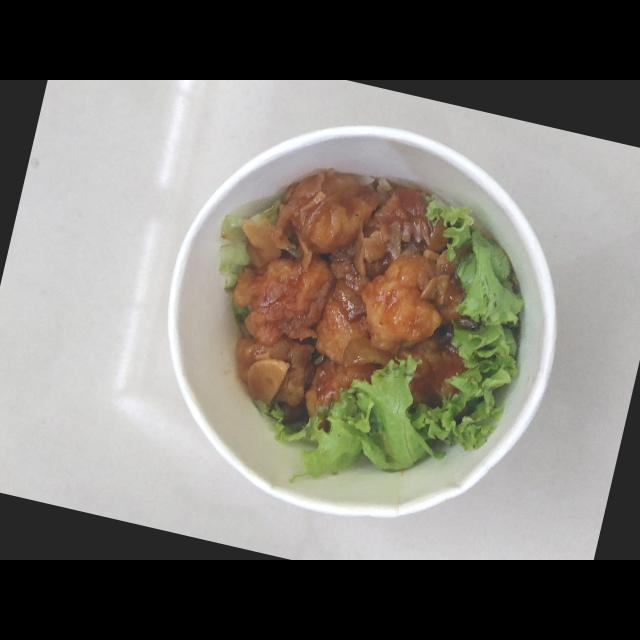rice-bowl: (97, 80, 611, 560)
